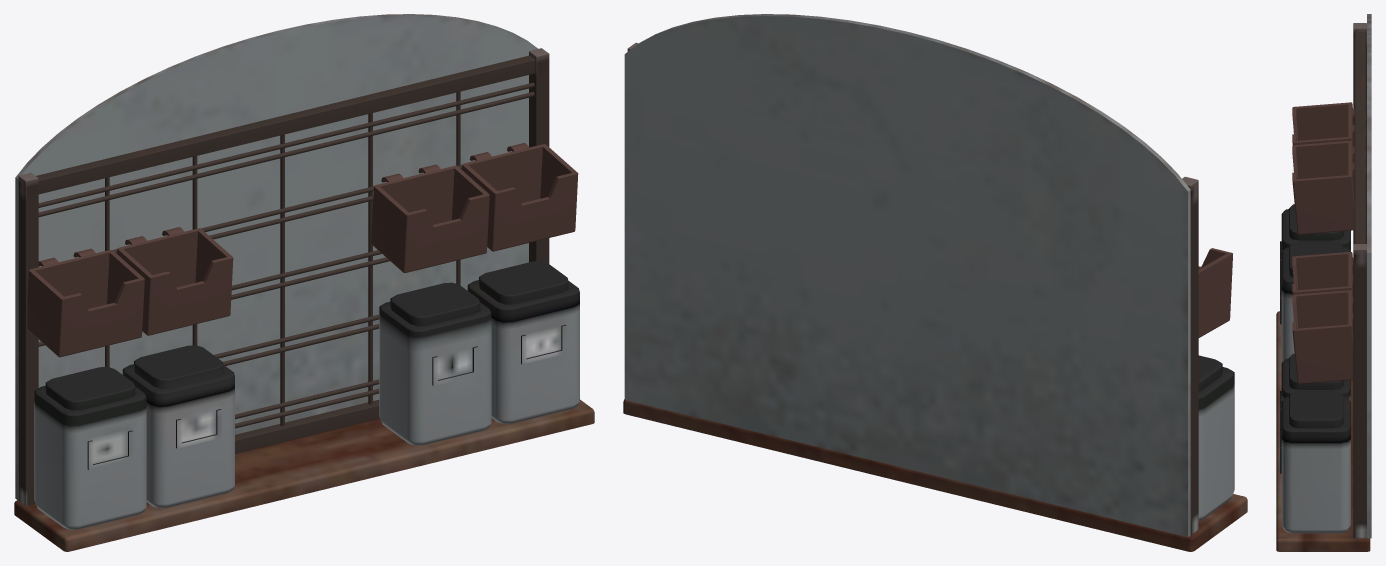
The model's file is 182_Condimentorganizer.fbx.
The picture shows the model from 3 angles, left to right: view 1: azimuth 30°, elevation 25°; view 2: azimuth 150°, elevation 25°; view 3: azimuth 270°, elevation 25°; orthographic projection. The views are drawn at different scales.
Parts seen in each view (by area): view 1: LOD_1_Group_0_Sub_1__sm30_182_CondimentOrganizer01A_A_Mat; view 2: LOD_1_Group_0_Sub_1__sm30_182_CondimentOrganizer01A_A_Mat; view 3: LOD_1_Group_0_Sub_1__sm30_182_CondimentOrganizer01A_A_Mat.
Boxes of the visible parts, x1,y1,x2,y2 form: LOD_1_Group_0_Sub_1__sm30_182_CondimentOrganizer01A_A_Mat: (14, 14, 594, 551); LOD_1_Group_0_Sub_1__sm30_182_CondimentOrganizer01A_A_Mat: (623, 14, 1247, 551); LOD_1_Group_0_Sub_1__sm30_182_CondimentOrganizer01A_A_Mat: (1276, 14, 1371, 551).
Size of the model in its own units: 0.5998 by 0.4515 by 0.105.
